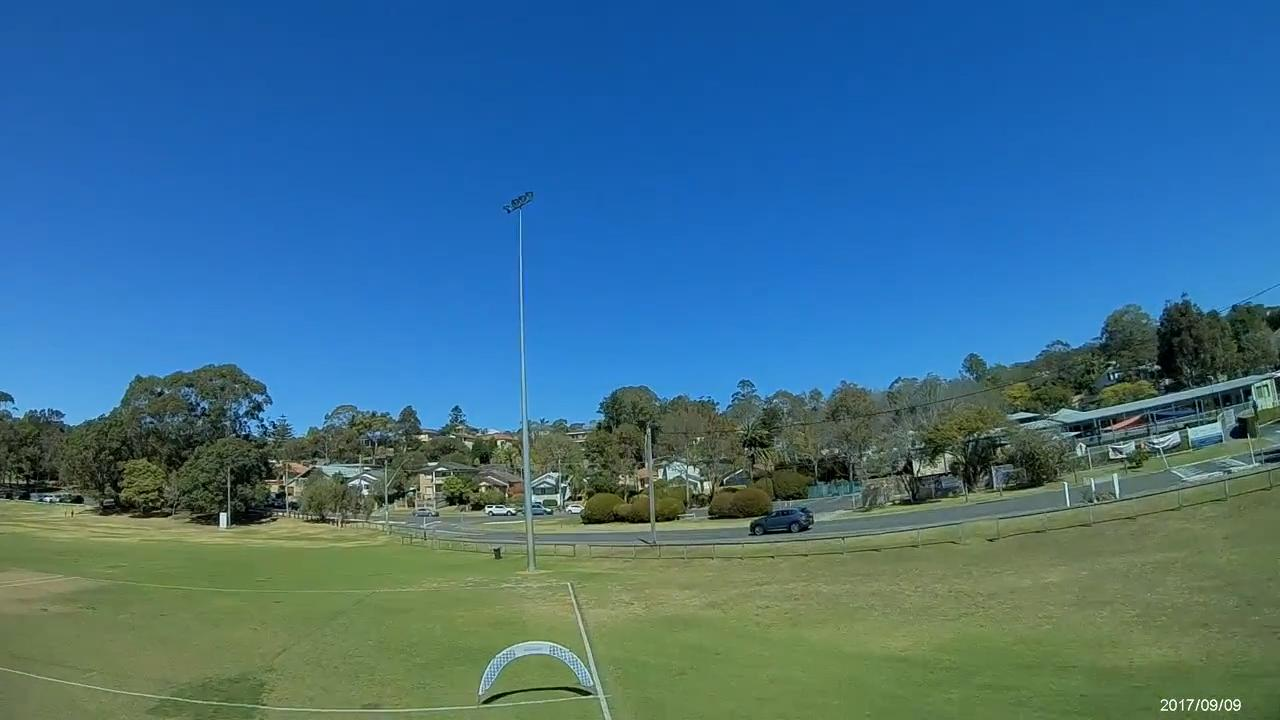gate: (476, 640, 595, 698)
